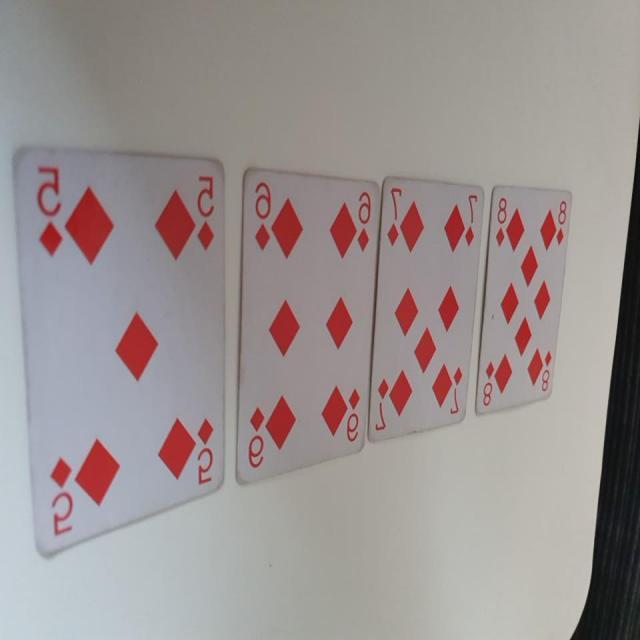5 of diamonds: (10, 143, 224, 564)
6 of diamonds: (236, 170, 381, 488)
7 of diamonds: (366, 176, 488, 443)
8 of diamonds: (476, 186, 574, 416)
